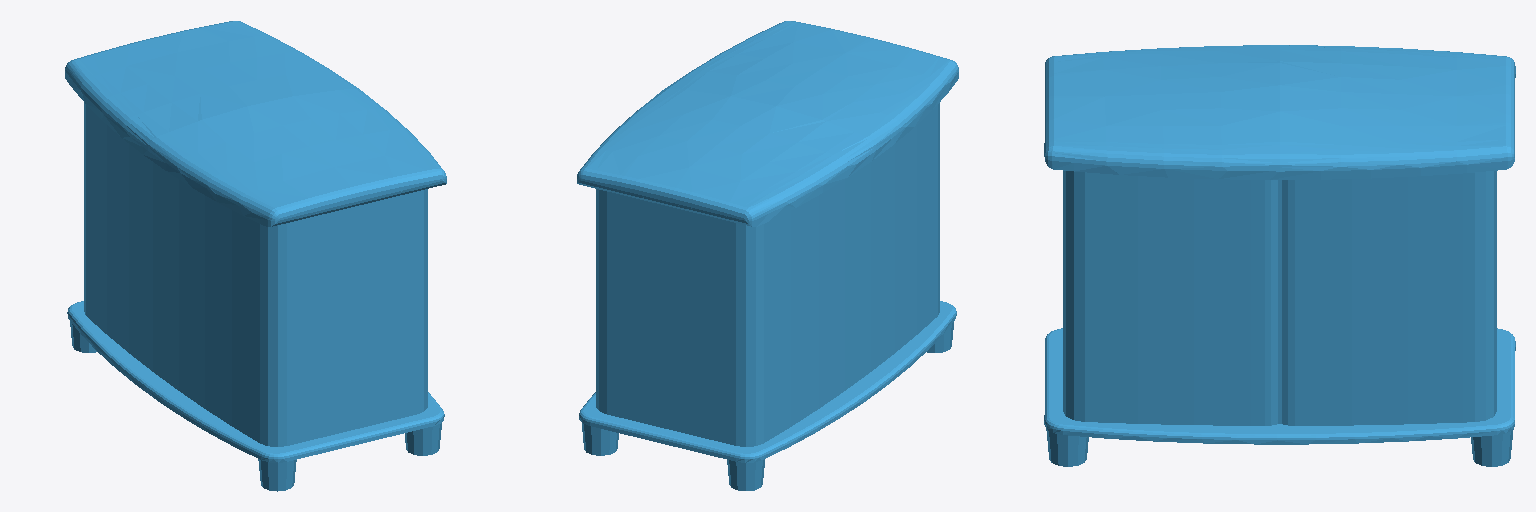
The robot description file, URDF, robot "workpiece":
<?xml version="1.0" encoding="utf-8"?>

<robot name="workpiece">
  <link name="world"/>

  <joint name="world_workbench_joint" type="fixed">
    <parent link="world"/>
    <child link="workpiece"/>
    <origin xyz="0 0 0" rpy="0 0 0" />
  </joint>

  <!--link name="workbench">
    <visual>
      <geometry>
         <box size="2.0 3.0 0.6"/>
      </geometry>
      <origin
         xyz="0 0 0.3"
         rpy="0 0 0" />
    </visual>
    <collision>
      <geometry>
        <box size="2.0 3.0 0.6"/>
      </geometry>
    </collision>
    <inertial>
      <origin
        xyz="0 0 0.3"
        rpy="0 0 0" />
      <mass
        value="10000" />
      <inertia
        ixx="0.3333"
        ixy="0"
        ixz="0"
        iyy="1"
        iyz="0"
        izz="1" />
    </inertial>
  </link-->
  
  <!--joint name="base_joint" type="fixed">
    <parent link="workbench"/>
    <child link="workpiece"/>
    <origin xyz="0 0 0.6" rpy="0 0 0" />
  </joint-->
  
  <!--TODO put your model of the workpiece here-->
  <link name="workpiece">
    <visual>
      <geometry>
        <mesh
          filename="package://m_mh24/meshes/drawer.STL" />
      </geometry>
      <origin
         xyz="0 -0.5 0"
         rpy="0 0 1.57" />
    </visual>
    <collision>
      <geometry>
      <mesh
          filename="package://m_mh24/meshes/drawer.STL" />
      </geometry>
      <origin
         xyz="0 -0.5 0"
         rpy="0 0 1.57" /> 
    </collision>
    <inertial>
      <origin
        xyz="0 0.5 0"
        rpy="0 0 0" />
      <mass
        value="500" />
      <inertia
        ixx="1"
        ixy="0"
        ixz="0"
        iyy="1"
        iyz="0"
        izz="1" />
    </inertial>
  </link>

  <!-- gazebo material-->
  <!--gazebo reference="workbench">
    <material>Gazebo/Gray</material>
  </gazebo-->
  <gazebo reference="workpiece">
    <material>Gazebo/White</material>
  </gazebo>
</robot>

--- Facts derived from the render (not from the file) ---
Views: 3 orthographic renders of the robot side by side, from view 1: azimuth 30°, elevation 25°; view 2: azimuth 150°, elevation 25°; view 3: azimuth 270°, elevation 25°.
Robot: workpiece — 2 links, 1 joints (1 fixed); root link world; default pose: every joint at zero.
Links seen in each view (by area): view 1: workpiece; view 2: workpiece; view 3: workpiece.
Link boxes in pixels (left/top/right/bottom): workpiece: left=65, top=21, right=446, bottom=491; workpiece: left=577, top=21, right=958, bottom=490; workpiece: left=1044, top=45, right=1515, bottom=466.
Bounding box of the posed robot: 0.5976 × 1 × 0.7721 m (x, y, z).
1 mesh visuals loaded from 1 distinct referenced files (1 binary STL).
